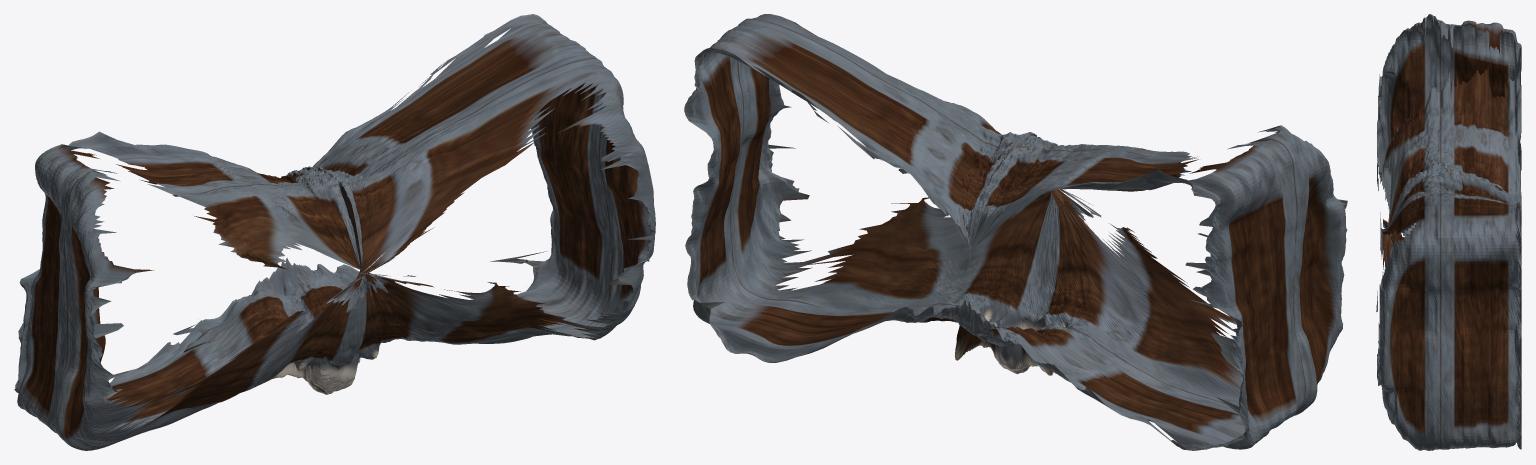
The picture shows the model from 3 angles, left to right: view 1: azimuth 30°, elevation 25°; view 2: azimuth 150°, elevation 25°; view 3: azimuth 270°, elevation 25°; orthographic projection. The views are drawn at different scales.
Parts seen in each view (by area): view 1: geometry_0; view 2: geometry_0; view 3: geometry_0.
Part boxes in pixels (x1,y1,x2,y2): geometry_0: (14, 14, 655, 450); geometry_0: (684, 14, 1347, 450); geometry_0: (1376, 14, 1521, 450).
Size of the model in its own units: 1.9 by 0.946 by 0.5108.
Materials: 1 (1 with a texture image).
